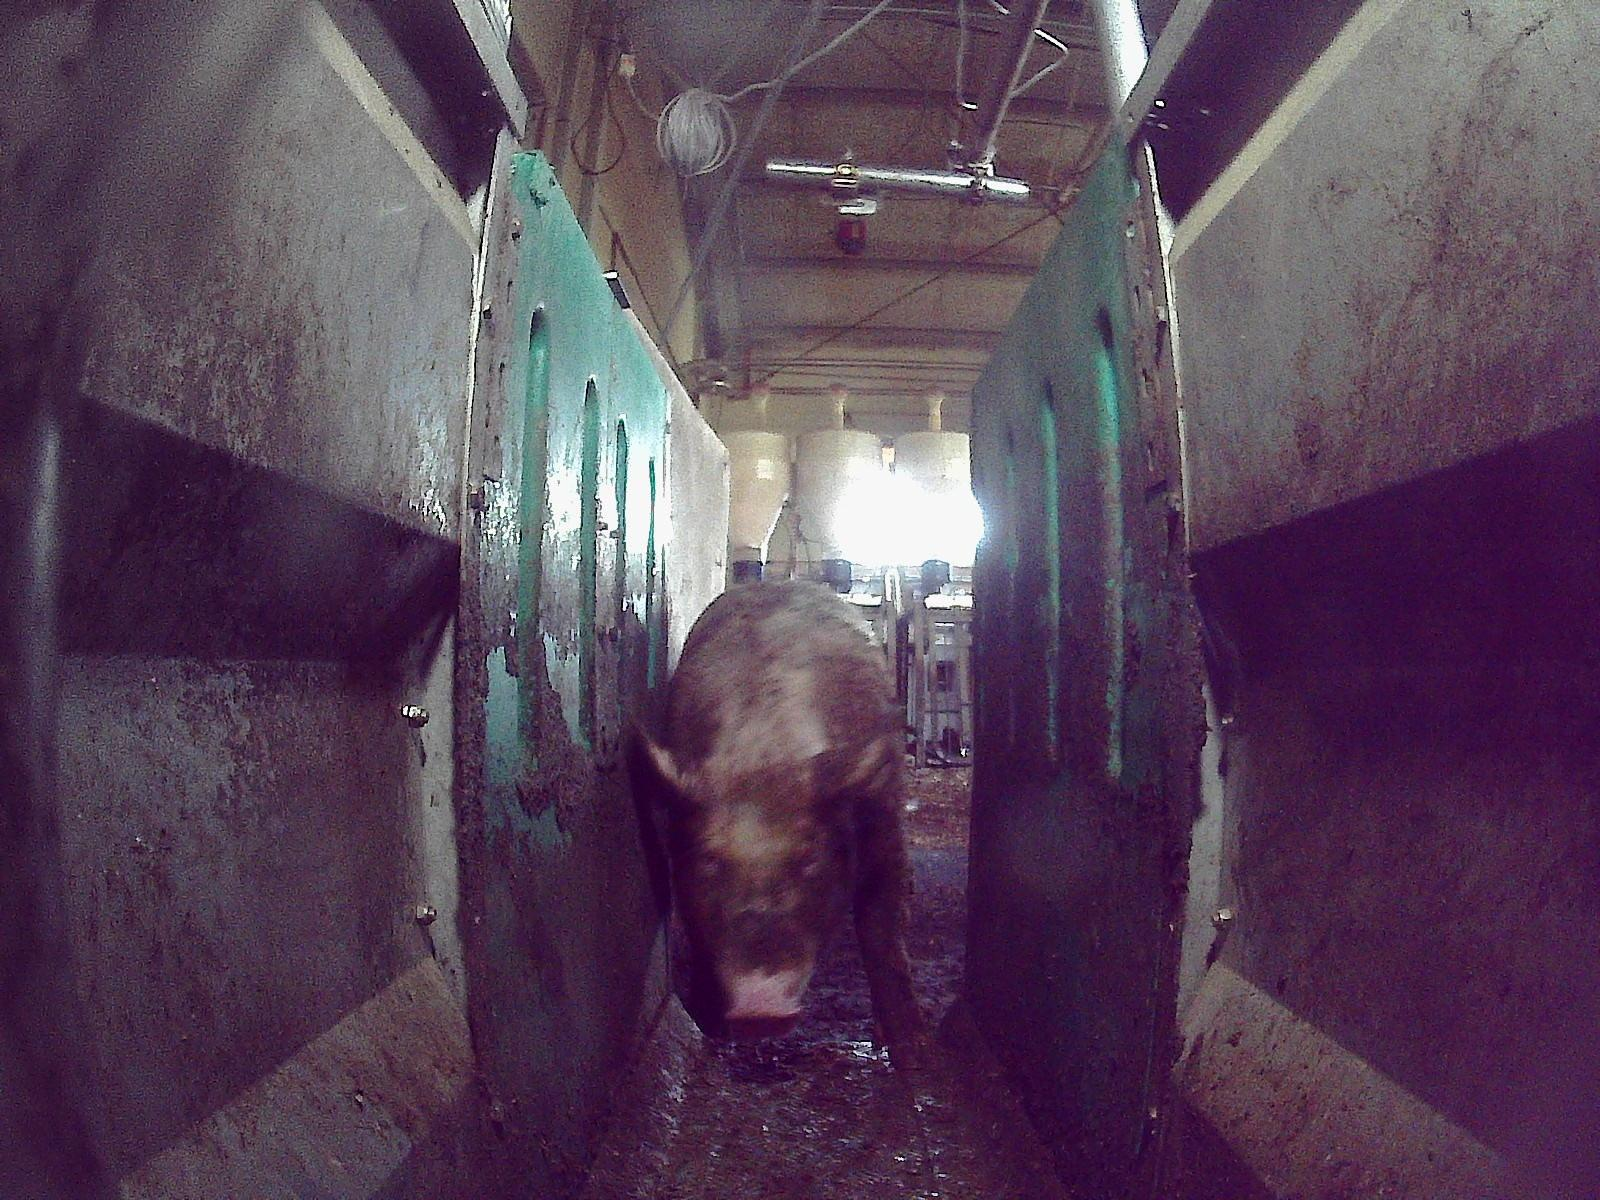Face: (679, 777, 846, 1034)
